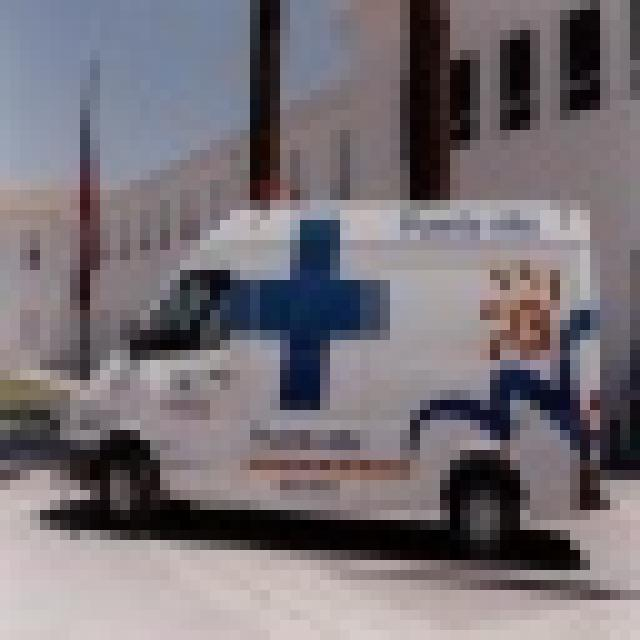Ambulance: (50, 190, 600, 550)
